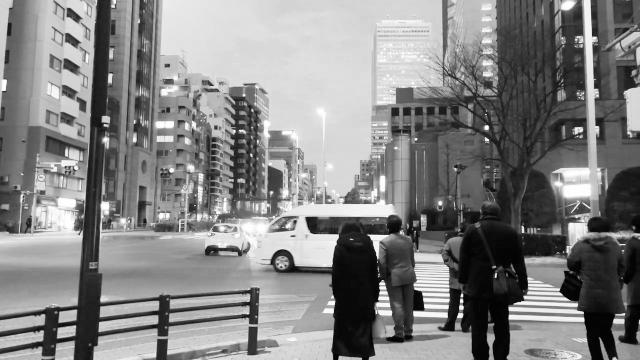berdiri: (454, 204, 530, 360), (331, 200, 373, 360), (374, 213, 421, 343), (438, 218, 478, 332)
berjalan: (566, 206, 628, 360)
